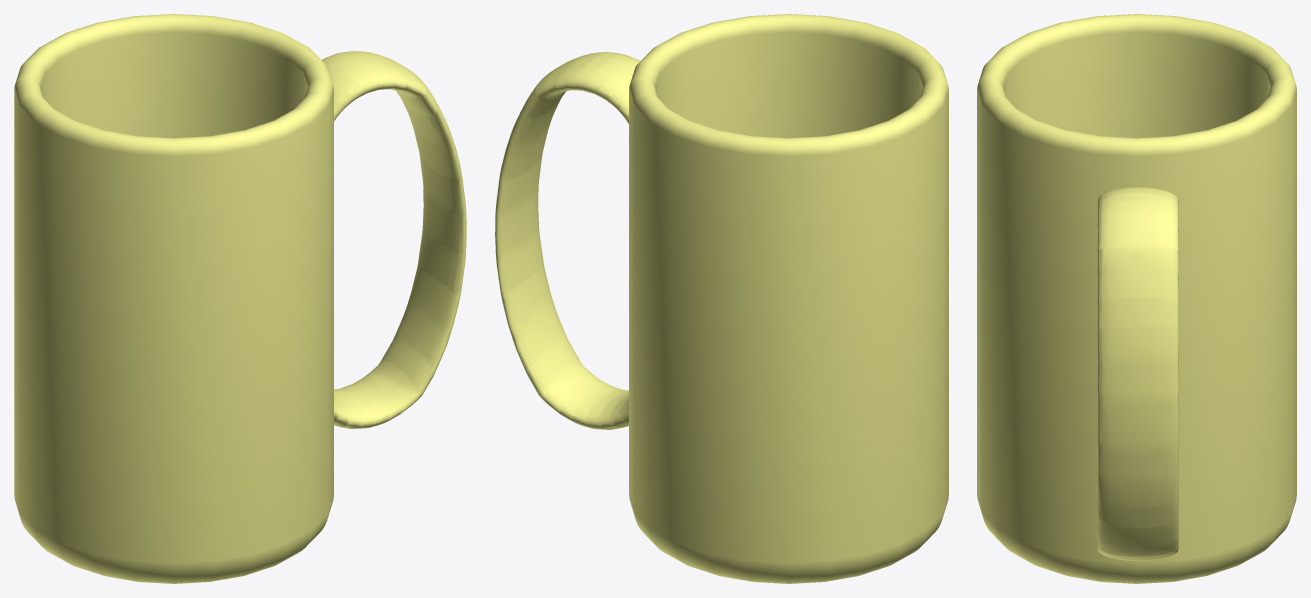
The model's file is cup2.dae.
3 views of the same model, side by side, from view 1: azimuth 30°, elevation 25°; view 2: azimuth 150°, elevation 25°; view 3: azimuth 270°, elevation 25° (orthographic).
Parts seen in each view (by area): view 1: Group1; view 2: Group1; view 3: Group1.
Boxes of the visible parts, x1,y1,x2,y2 form: Group1: (14,14,466,583); Group1: (495,14,948,583); Group1: (977,14,1296,583).
Bounding box in the file's own units: 2468 × 1636 × 2554.
